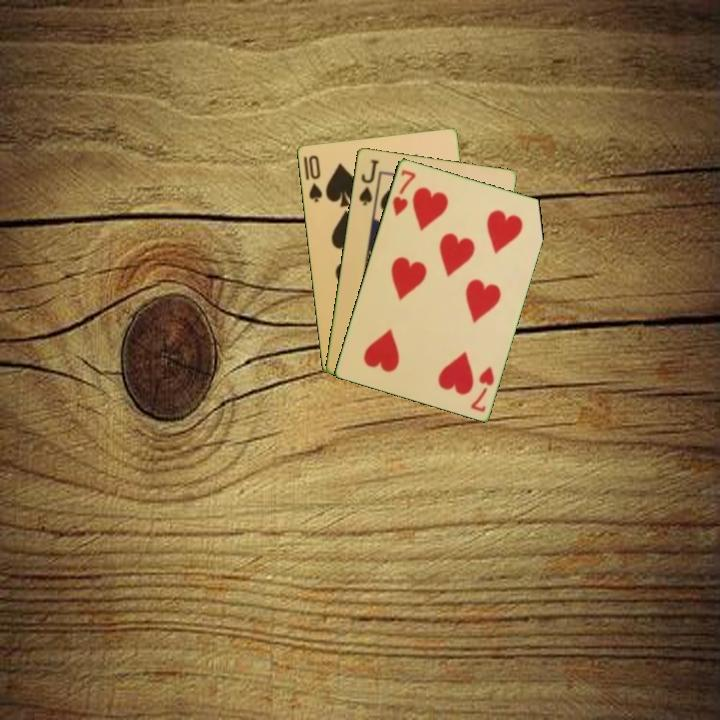10s: (304, 151, 325, 205)
7h: (388, 166, 419, 219), (467, 362, 497, 415)
Js: (355, 156, 382, 208)
